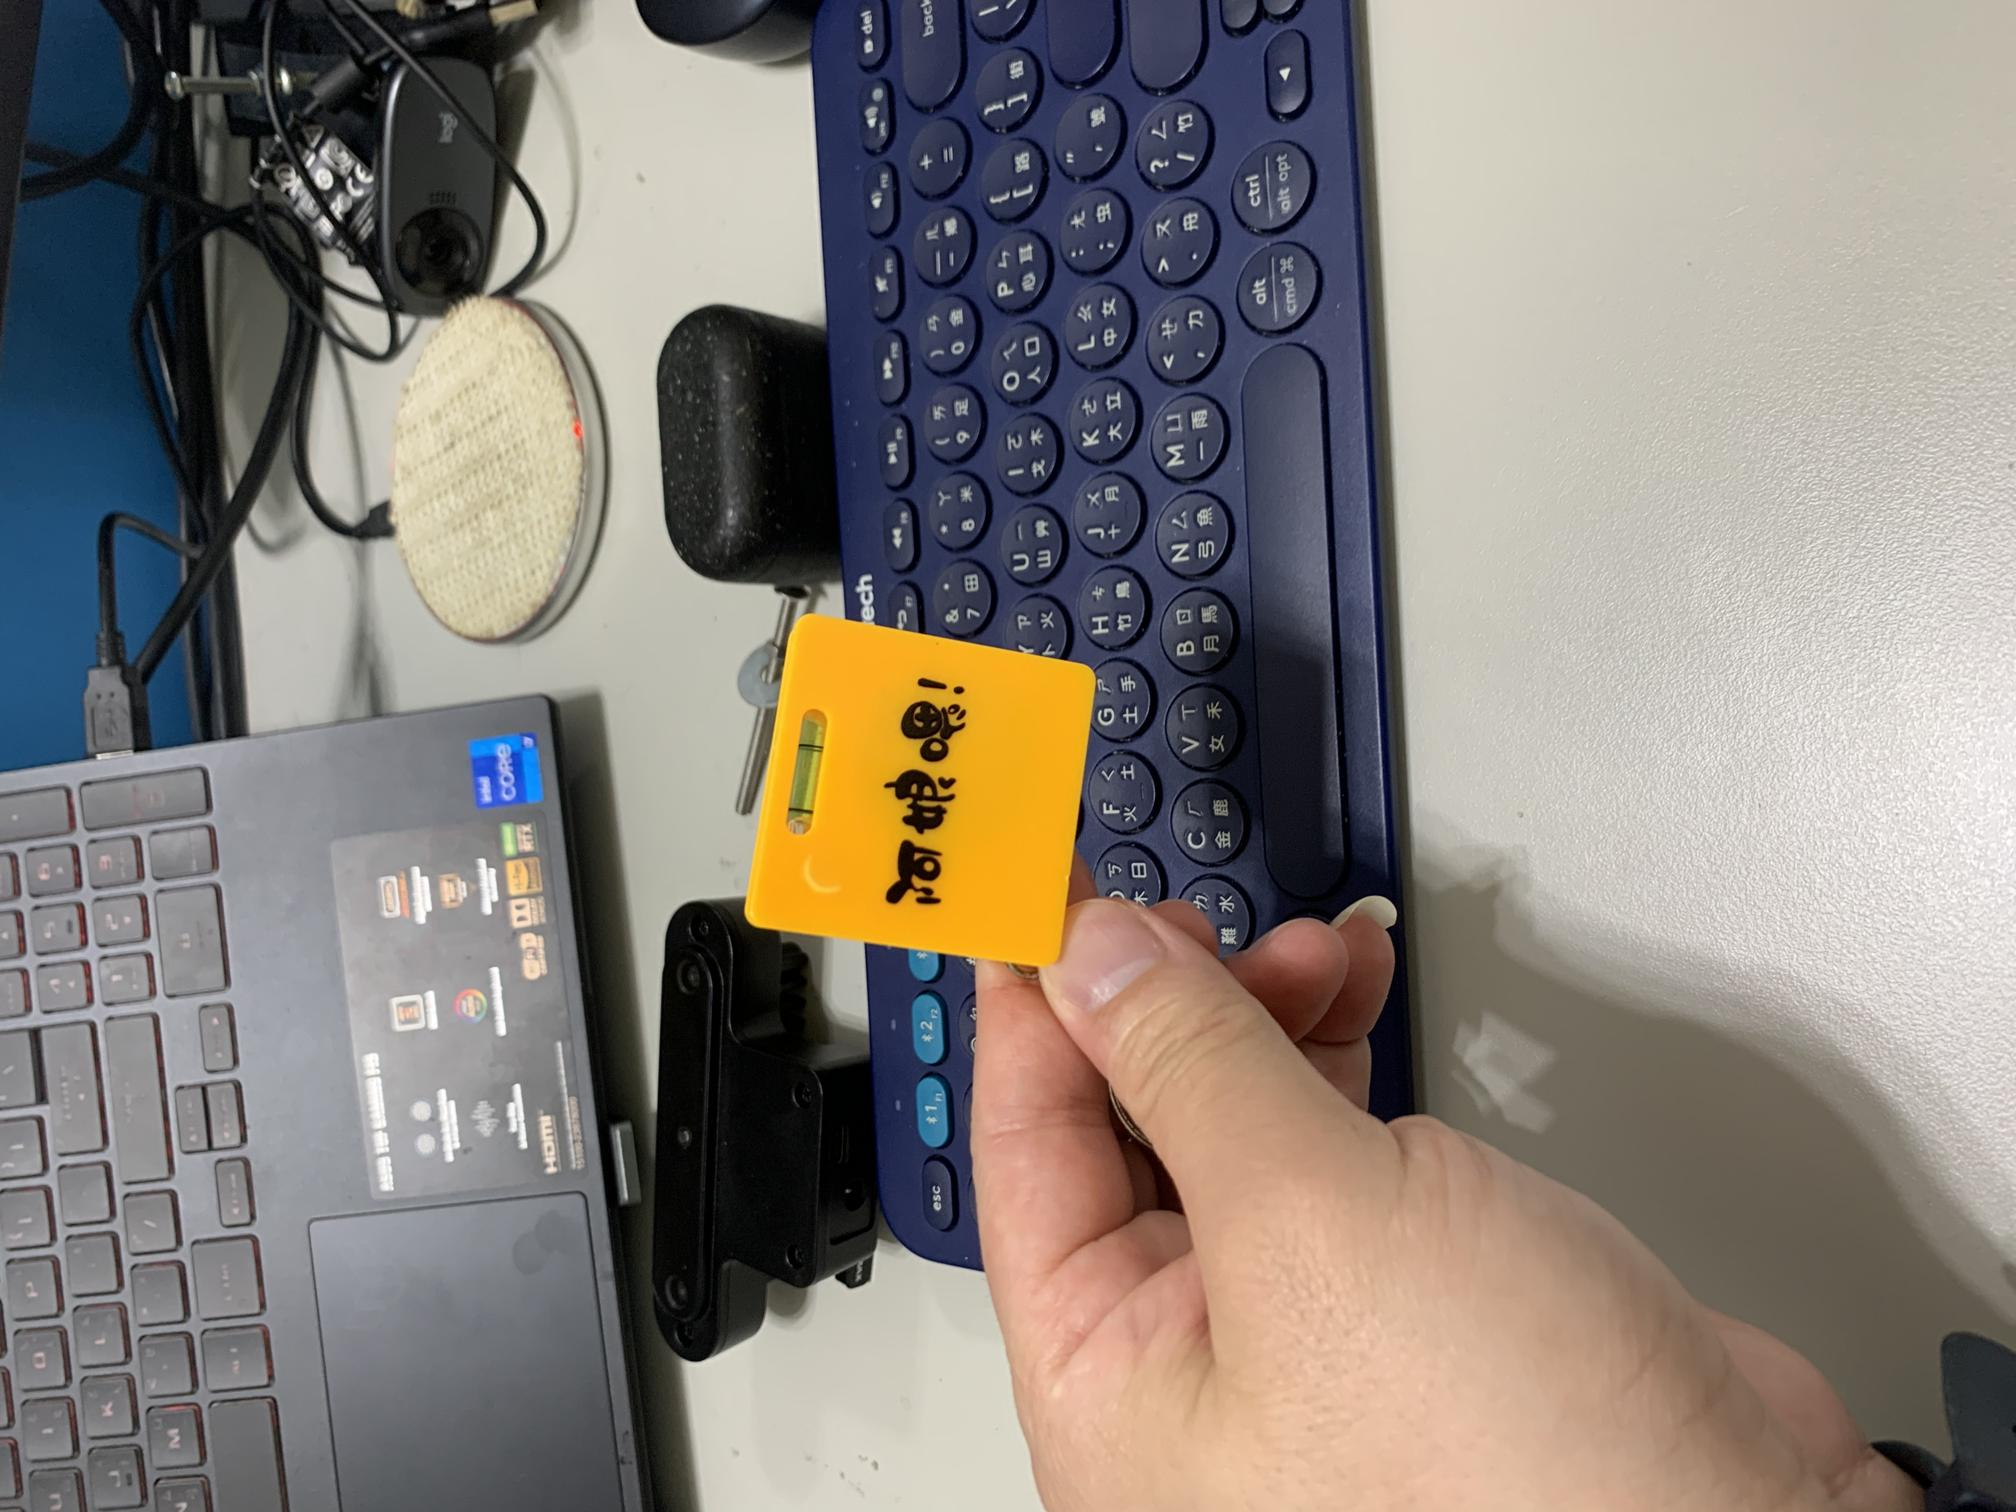Laio: (714, 616, 1102, 968)
